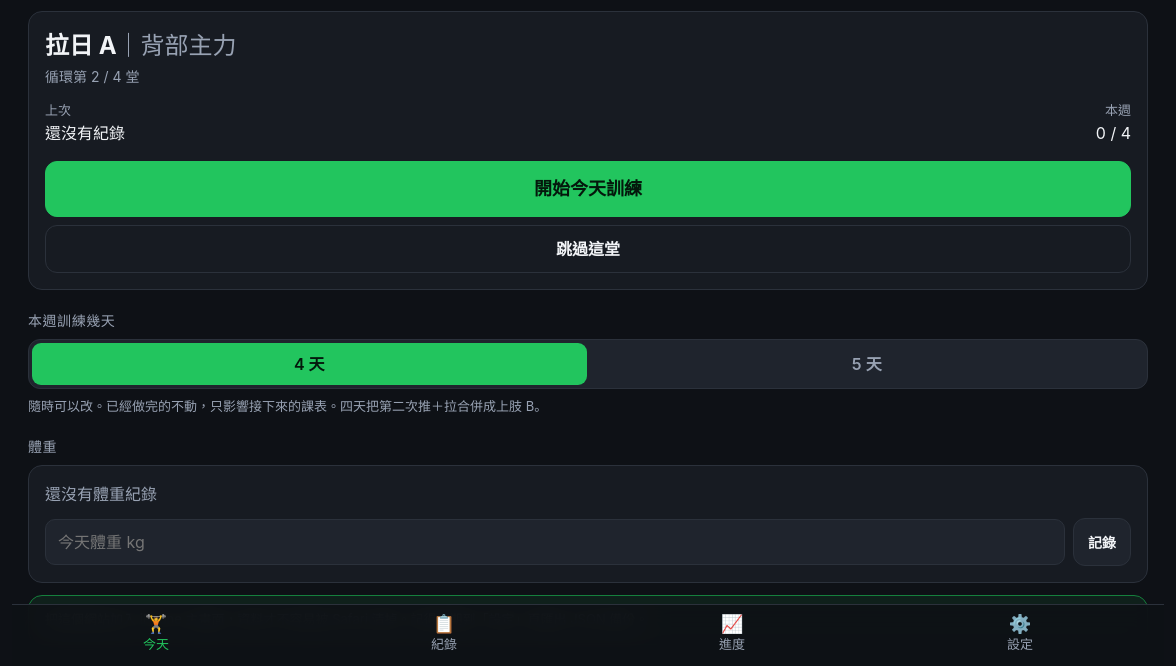
Test: 一組都沒記就結束 › 不留紀錄，課表也不往前走
Step 1. Click the button "開始今天訓練" → (588,188), box [45,160,1131,216]
(page scrolled)
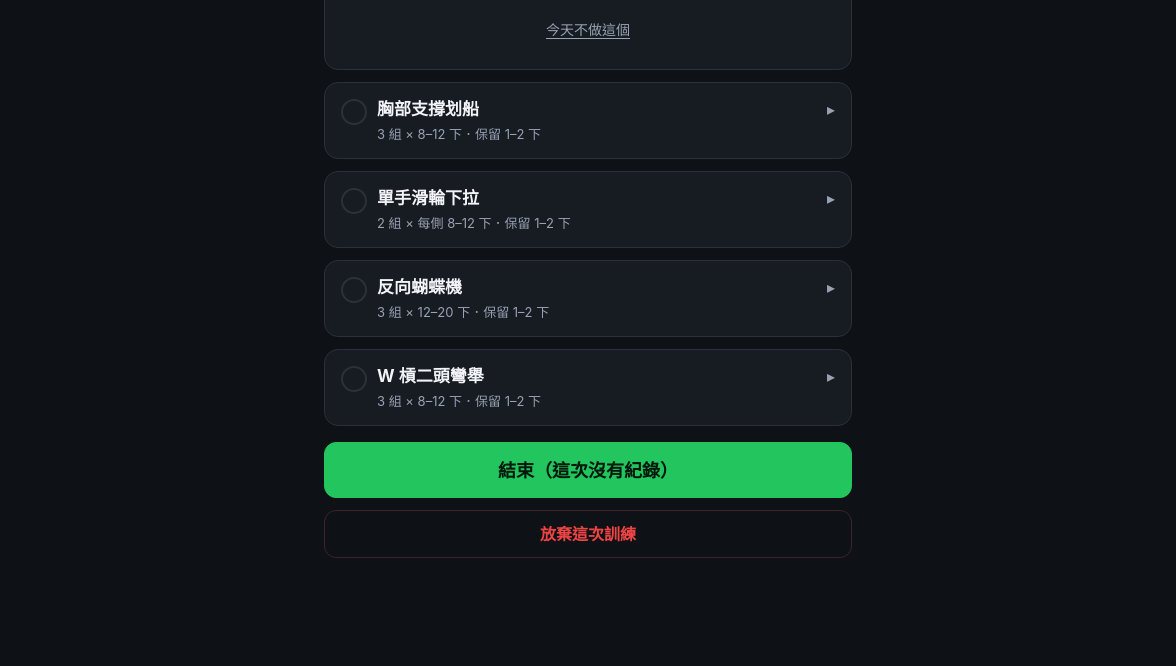
Step 2. Click the button "結束（這次沒有紀錄）" → (588,470), box [324,442,852,498]
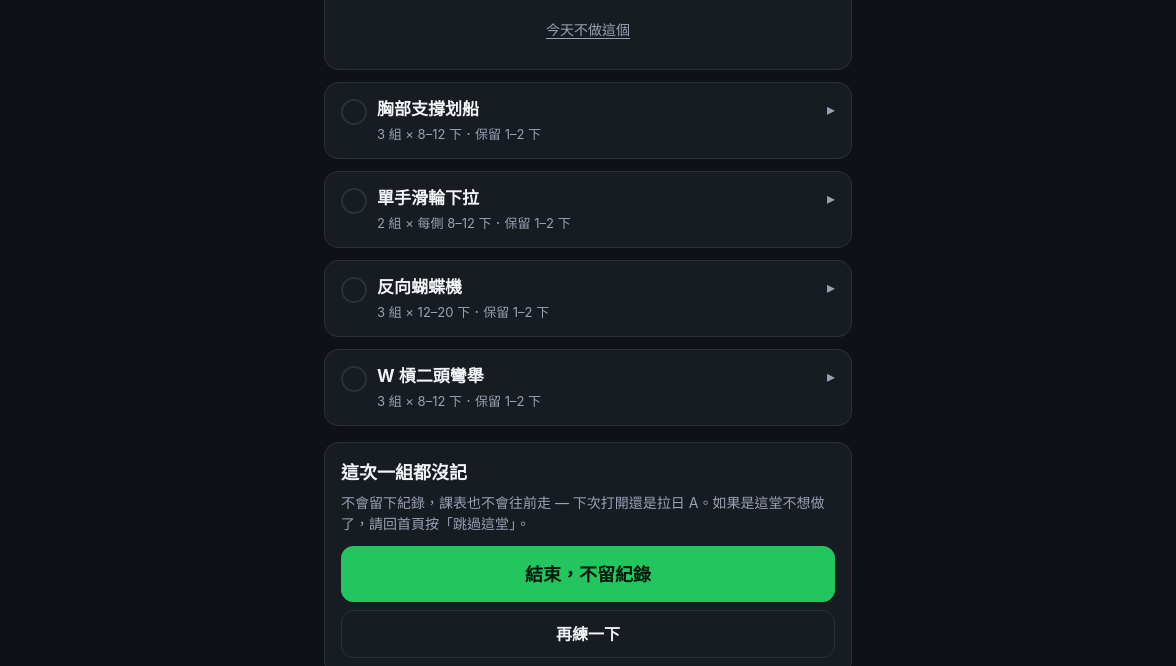
Step 3. Click the button "結束，不留紀錄" → (588,574), box [341,546,835,602]
(page scrolled)
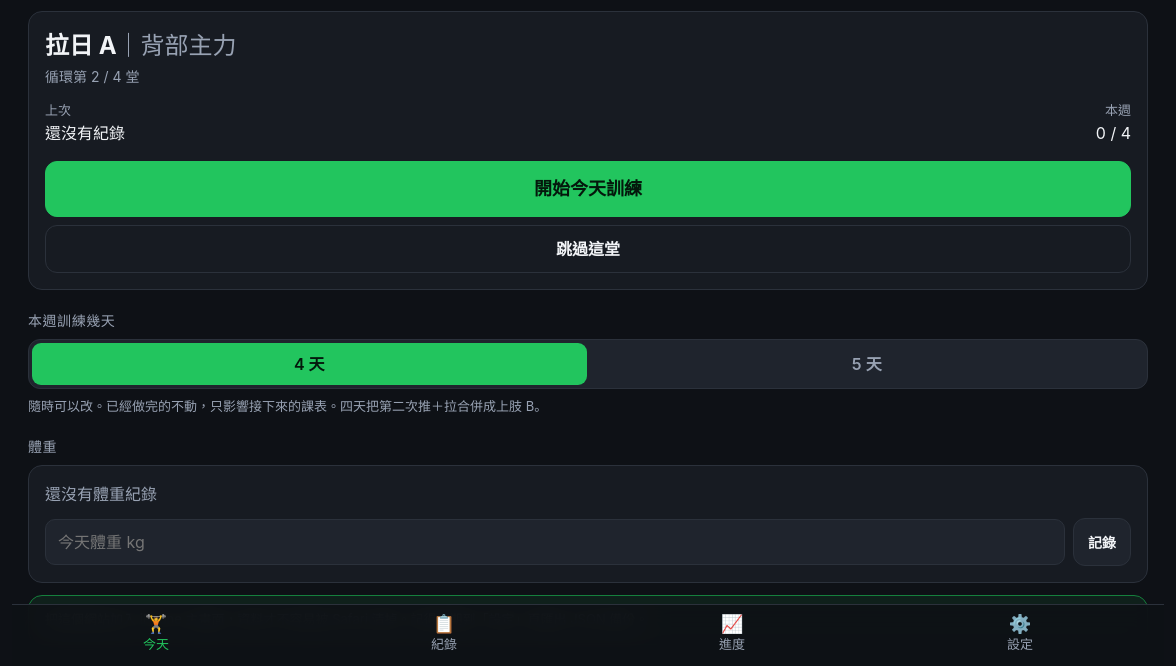
Expected: the heading "拉日 A｜背部主力" is shown, [45,31,237,60]
Expected: the button "開始今天訓練" is shown, [45,160,1131,216]
